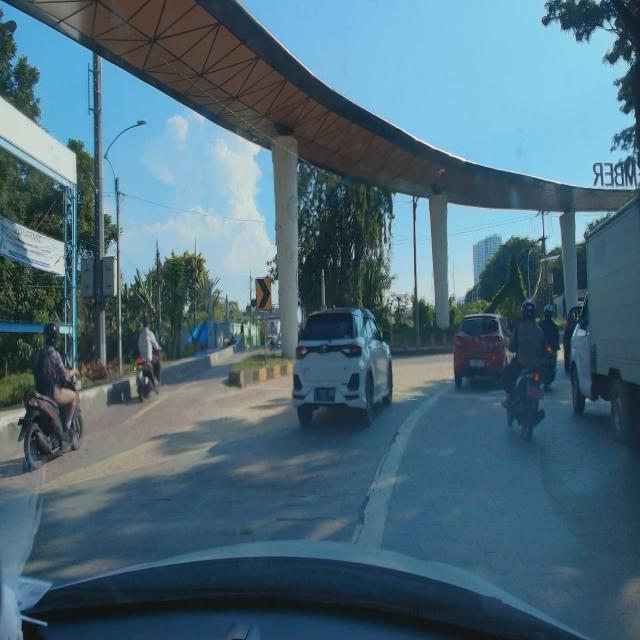car: (290, 302, 394, 431), (454, 310, 512, 389)
